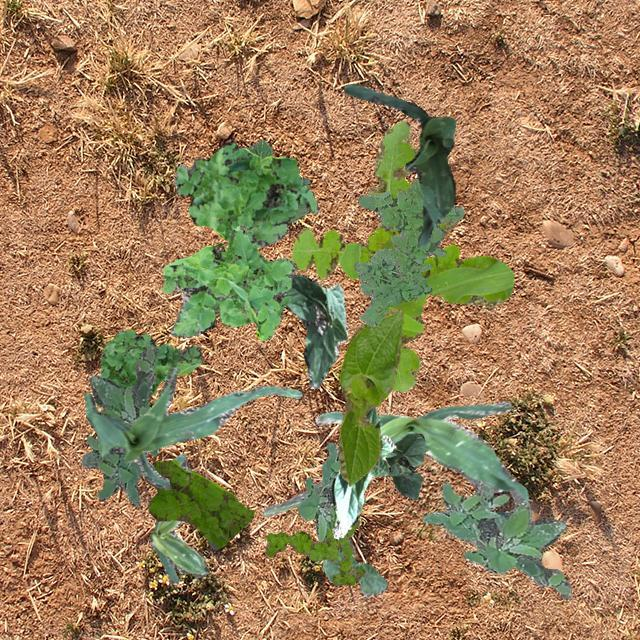crop: (262, 400, 530, 522), (84, 366, 300, 488), (342, 84, 454, 245), (336, 308, 402, 484), (330, 406, 394, 538), (148, 454, 208, 584), (282, 274, 346, 388), (246, 140, 308, 222), (322, 548, 386, 596), (384, 430, 424, 498)
weed: (290, 118, 512, 390), (422, 479, 570, 599), (354, 178, 464, 326), (172, 140, 318, 247), (160, 224, 294, 340), (80, 346, 158, 504), (148, 459, 252, 548), (98, 328, 200, 394), (264, 518, 364, 584), (296, 442, 354, 554)
